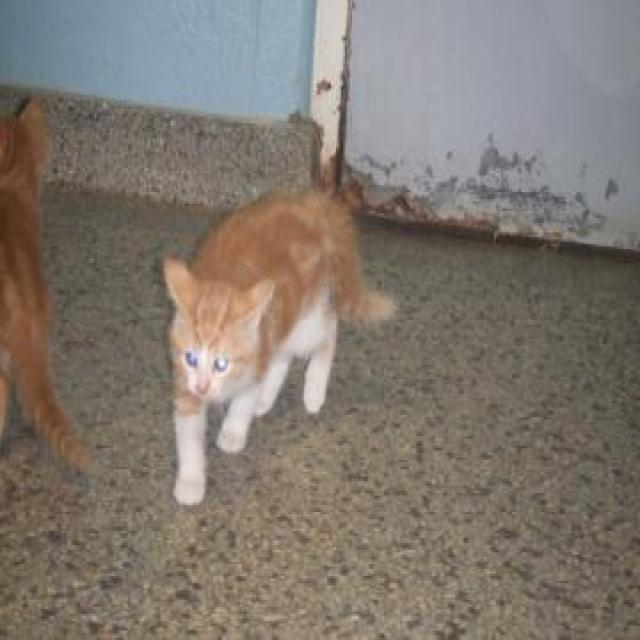Cats: (160, 182, 398, 505), (0, 92, 100, 496)
